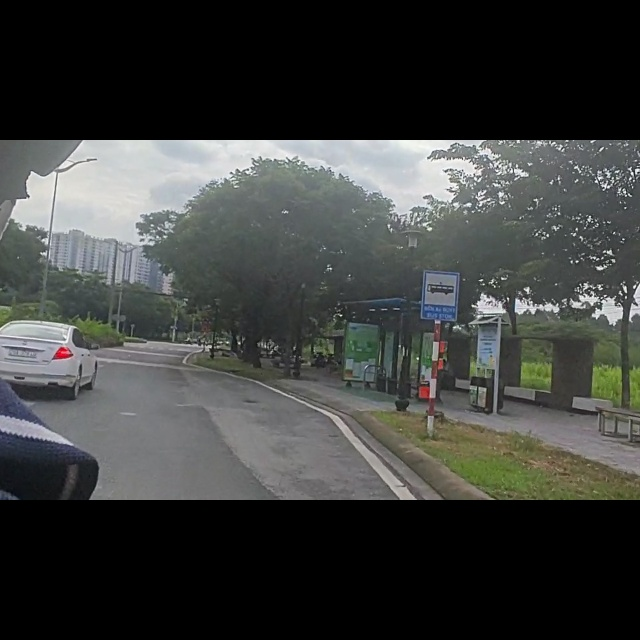bien_hieu_lenh: (421, 224, 463, 326)
